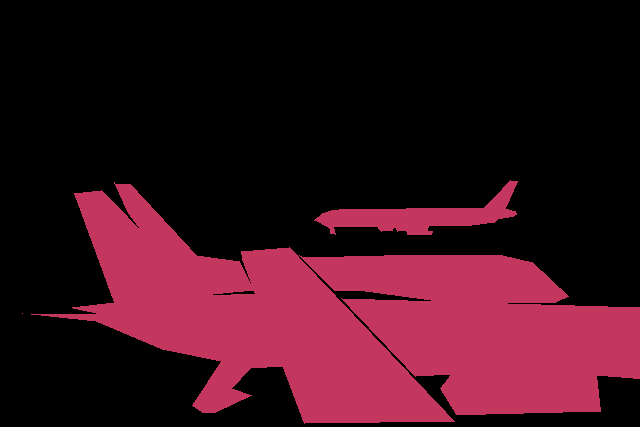Airplane: (22, 190, 640, 414), (114, 182, 569, 303), (241, 247, 455, 424), (314, 180, 517, 235)
